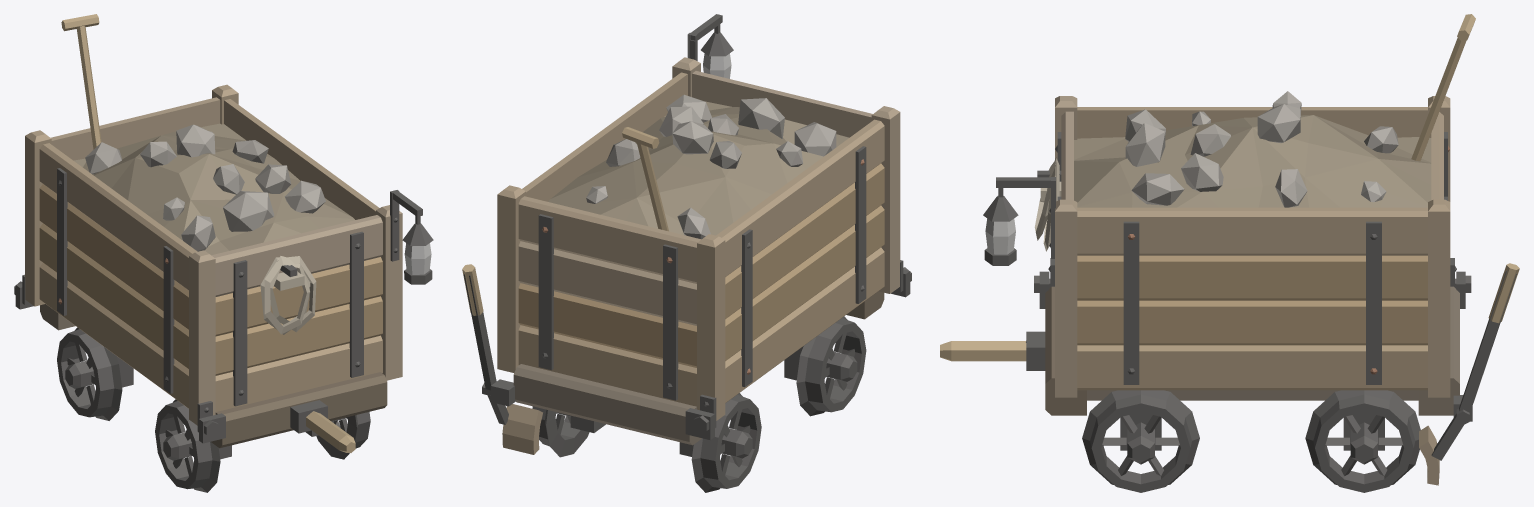
Rendered from cart.glb.
3 renders of one model, left to right at view 1: azimuth 30°, elevation 25°; view 2: azimuth 150°, elevation 25°; view 3: azimuth 270°, elevation 25°, orthographic. The views are drawn at different scales.
Parts seen in each view (by area): view 1: cart; view 2: cart; view 3: cart.
Part boxes in pixels (x1,y1,x2,y2): cart: (14,14,433,492); cart: (462,14,911,492); cart: (940,14,1519,492).
Bounding box in the file's own units: 0.9625 × 1.56 × 2.
